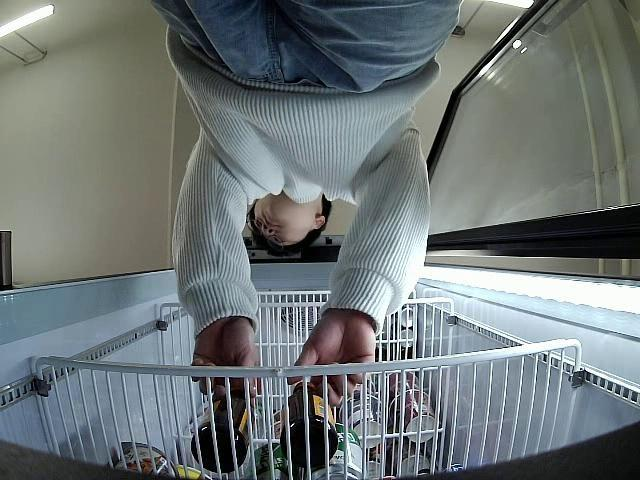17_vita500: (193, 389, 254, 472), (280, 382, 338, 466)
